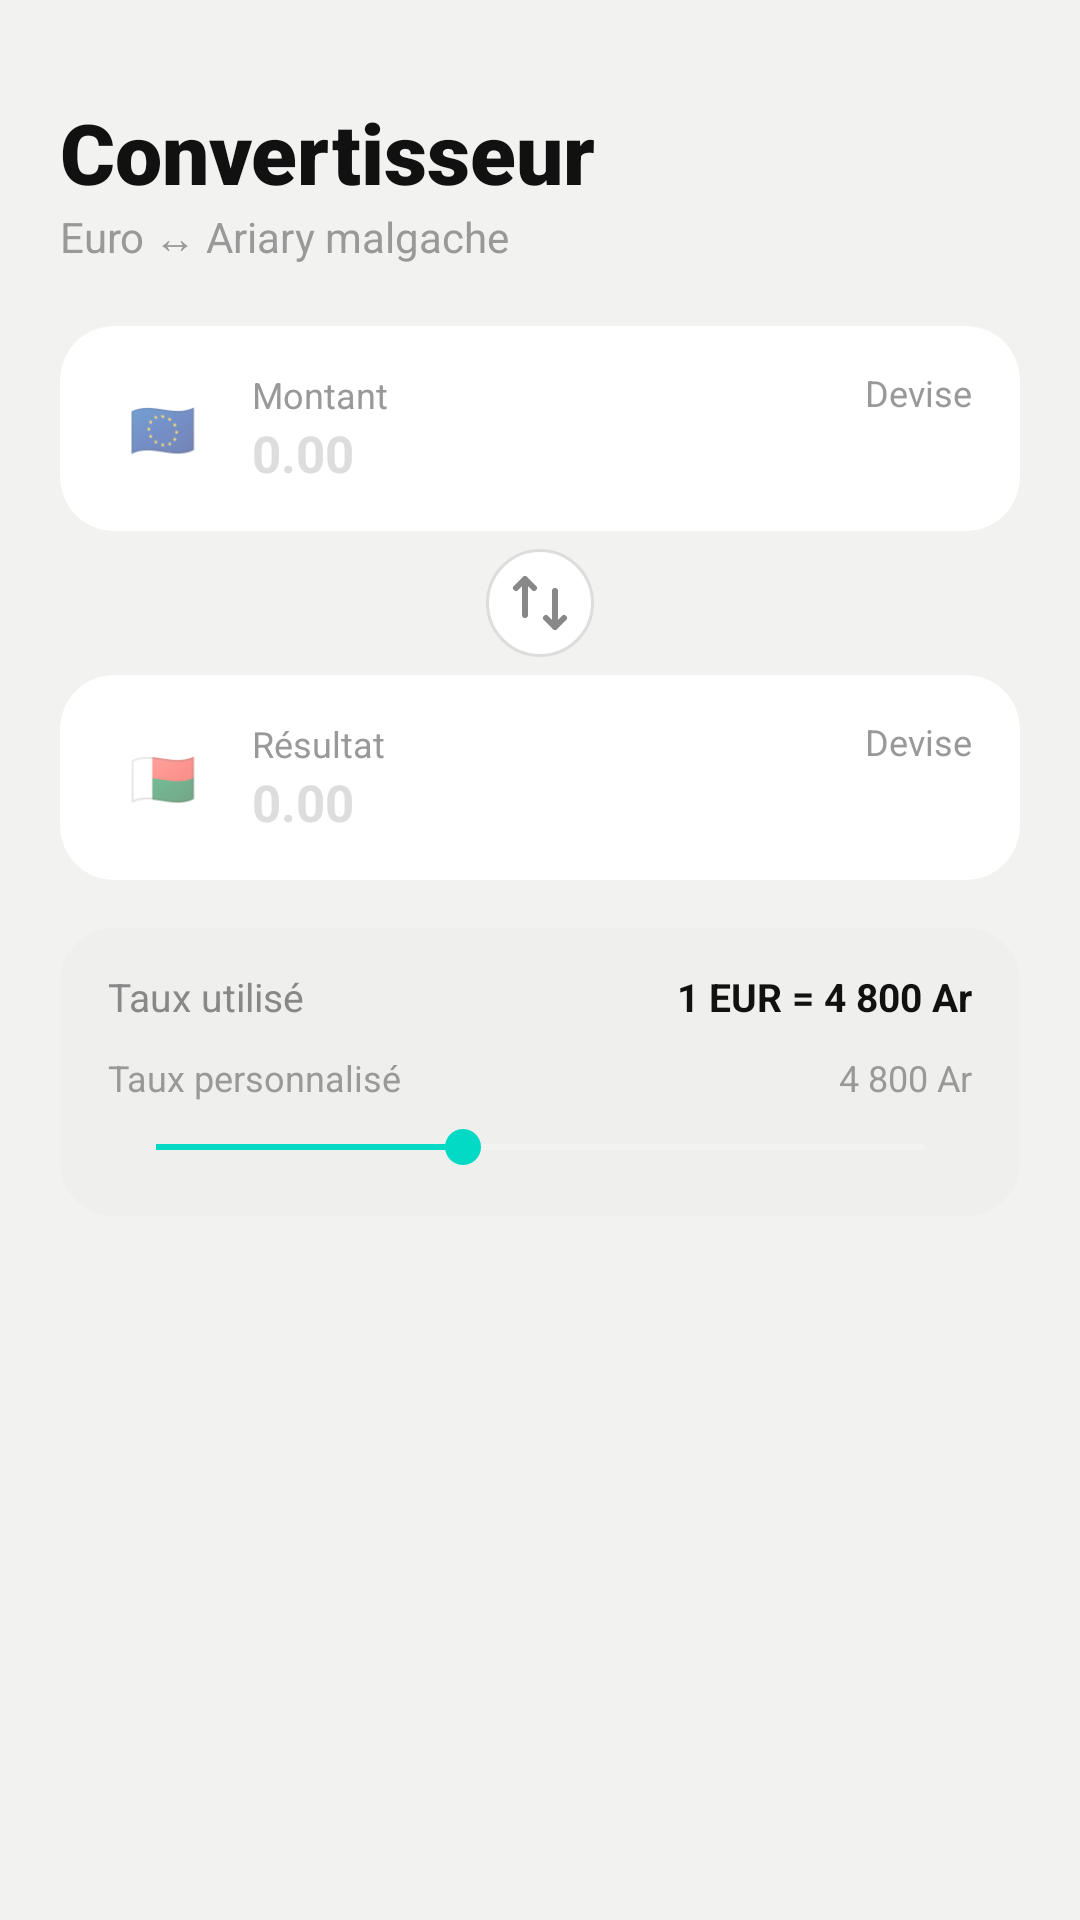

Icons on this 1080w x 1920h Android screen, each with its box as (x1, y1, x2, y2):
Inverser les devises: (486, 549, 594, 657)
